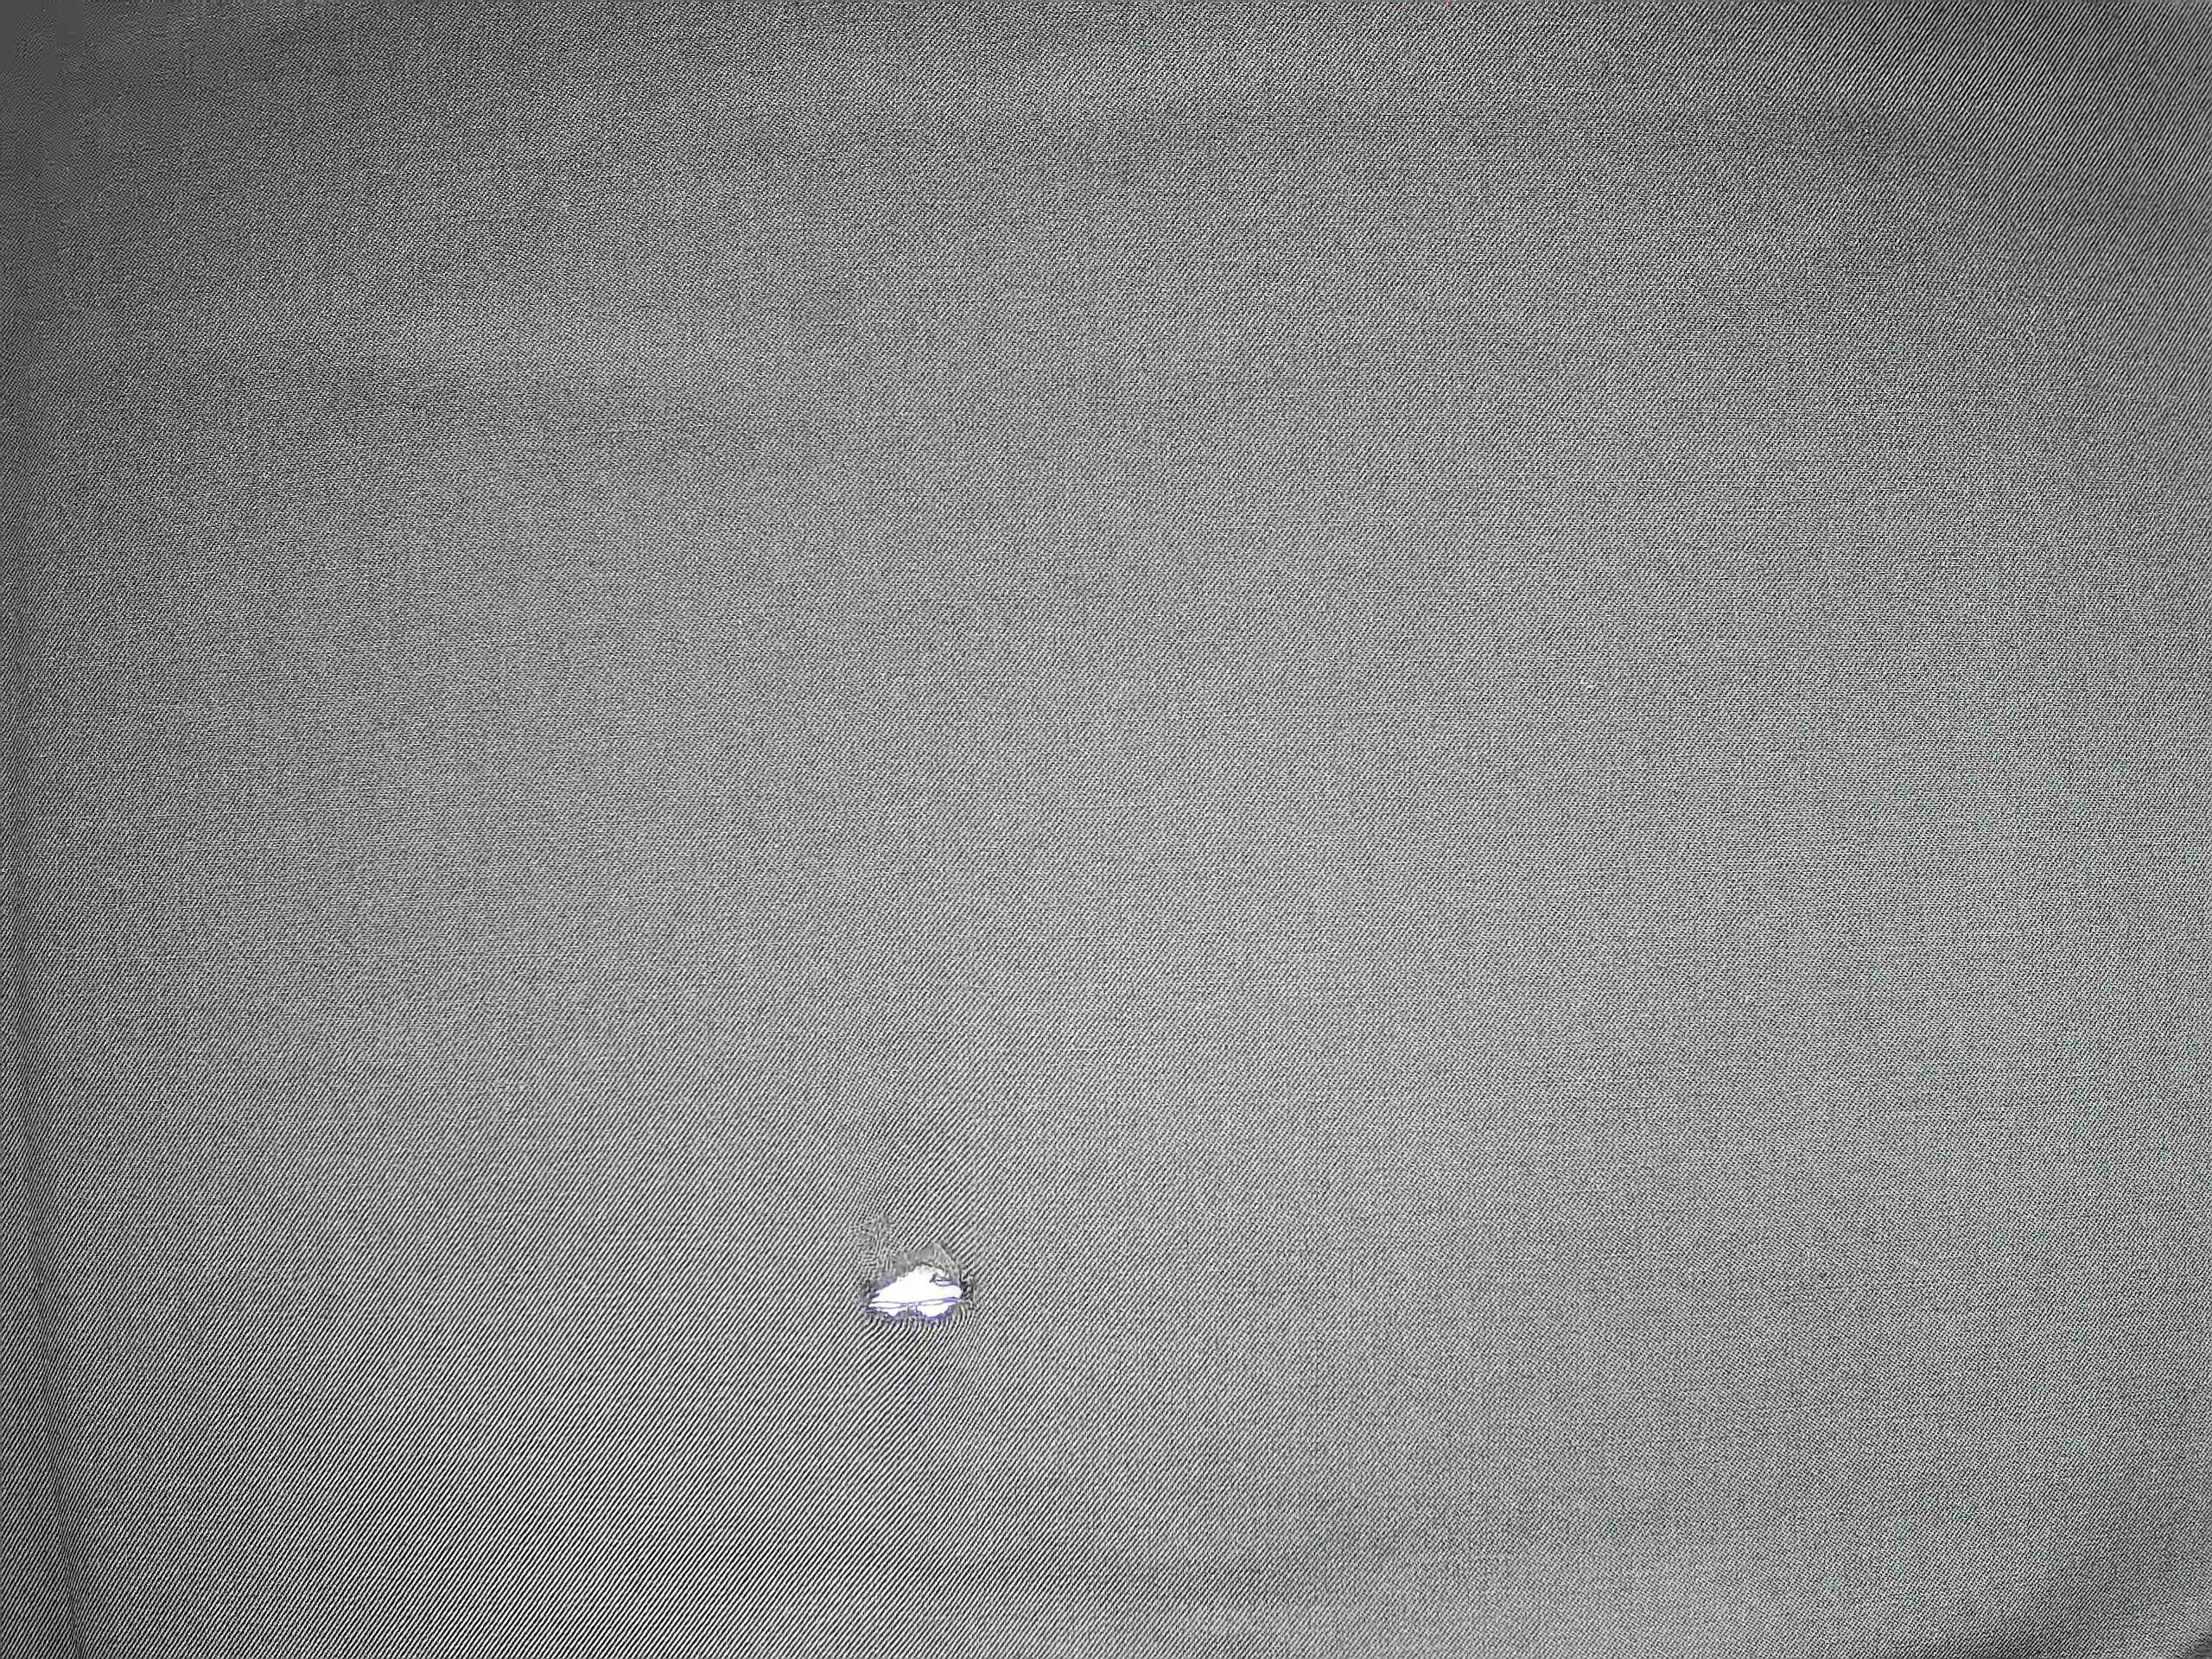rubbing-hole: (840, 1225, 996, 1349)
